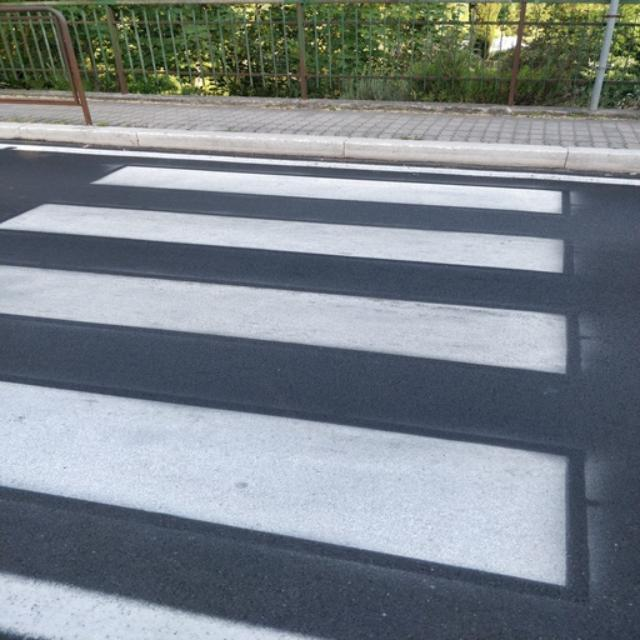sidewalk: (0, 156, 577, 640)
